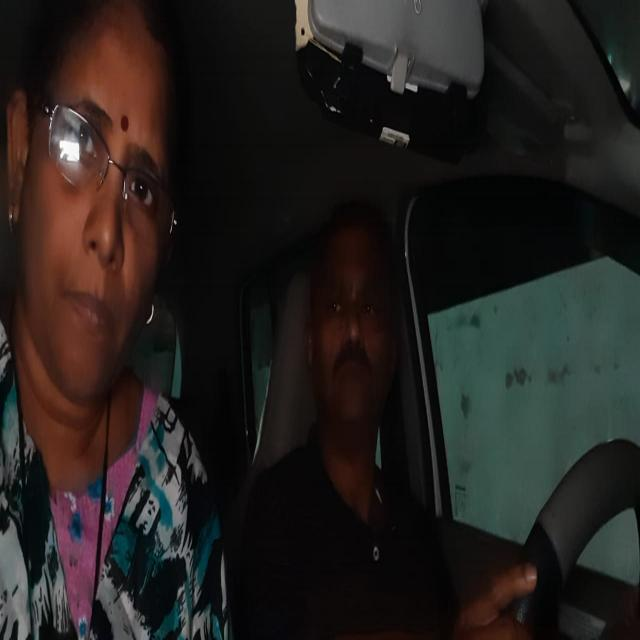person: (40, 13, 176, 375), (311, 220, 400, 434)
